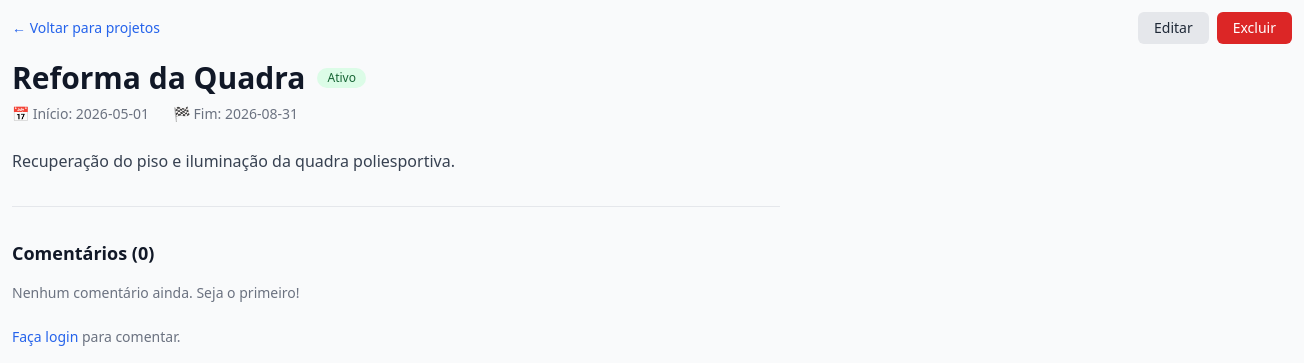
ProjectDetailPage — admin › cancela exclusão ao clicar em Não
Click the button "Excluir" at (1254, 28), box [1217, 12, 1292, 44]
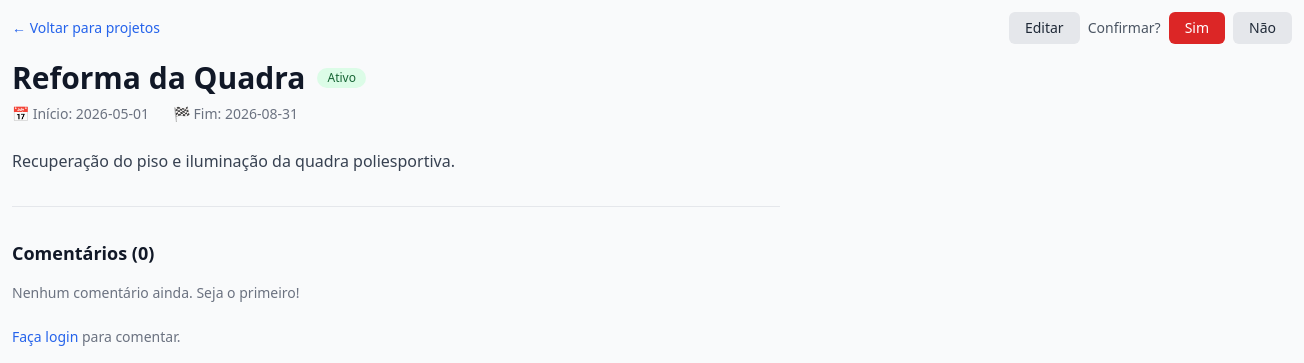
Click the button "Não" at (1262, 28), box [1233, 12, 1292, 44]
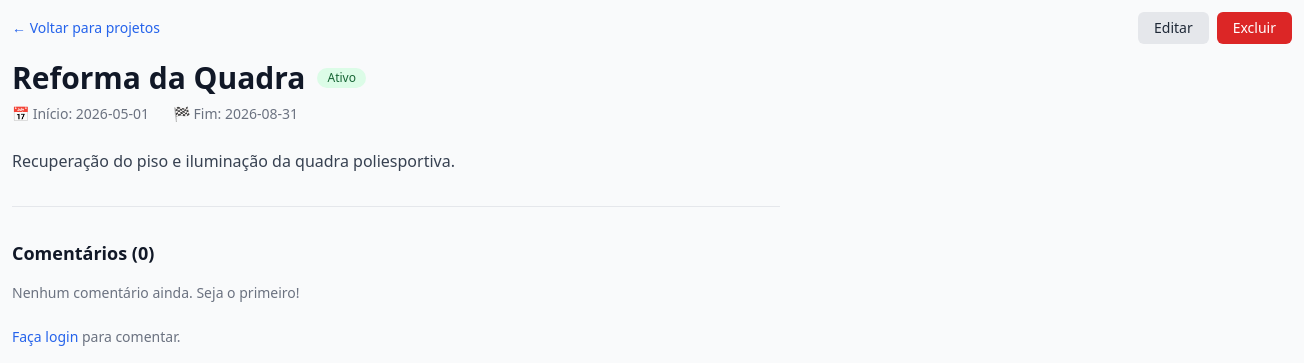
Result: the button "Excluir" is shown at [1217, 12, 1292, 44]
